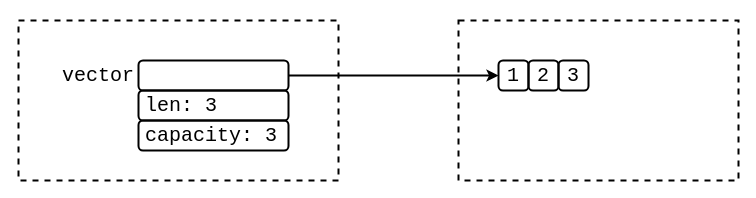
This 756x198 diagram has some shape labels left out. Each missing label, with the box of its shape:
addr: (137, 59, 289, 91)
Heap: (457, 19, 739, 181)
Stack: (17, 19, 339, 181)
